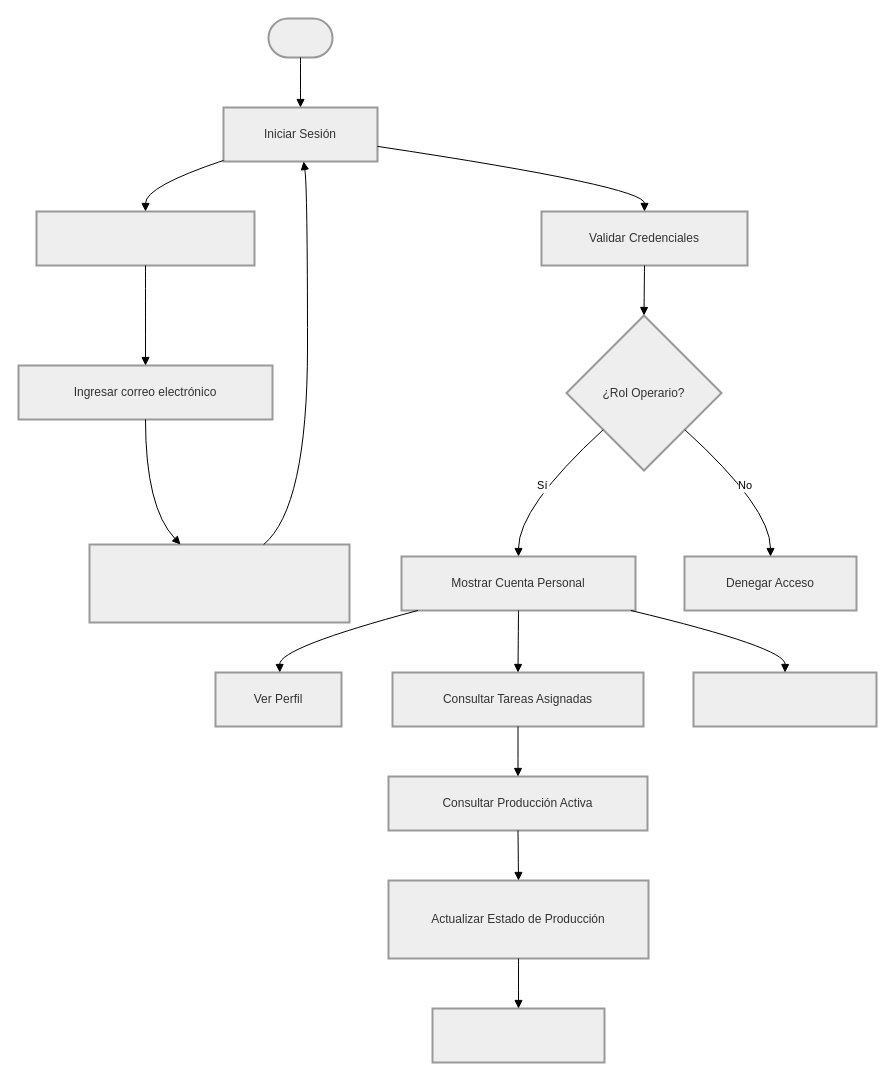
Some shapes in this 894 by 1080 pixel diagram are drawn without their labels. Each missing label, with the centre of its shape:
"Enviar recuperación de contraseña" belongs at [219,583].
"Guardar Avance" belongs at [518,1035].
"Inicio" belongs at [300,37].
"Reportar Avances" belongs at [784,699].
"¿Olvidó la contraseña?" belongs at [145,238].
